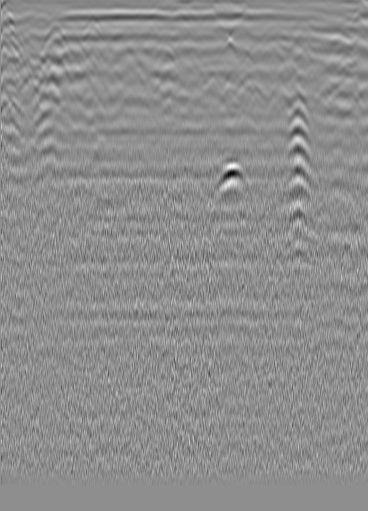가스: (210, 158, 254, 201)
상수: (330, 26, 367, 60)
오수: (37, 18, 75, 54)
우수: (157, 46, 178, 68)
